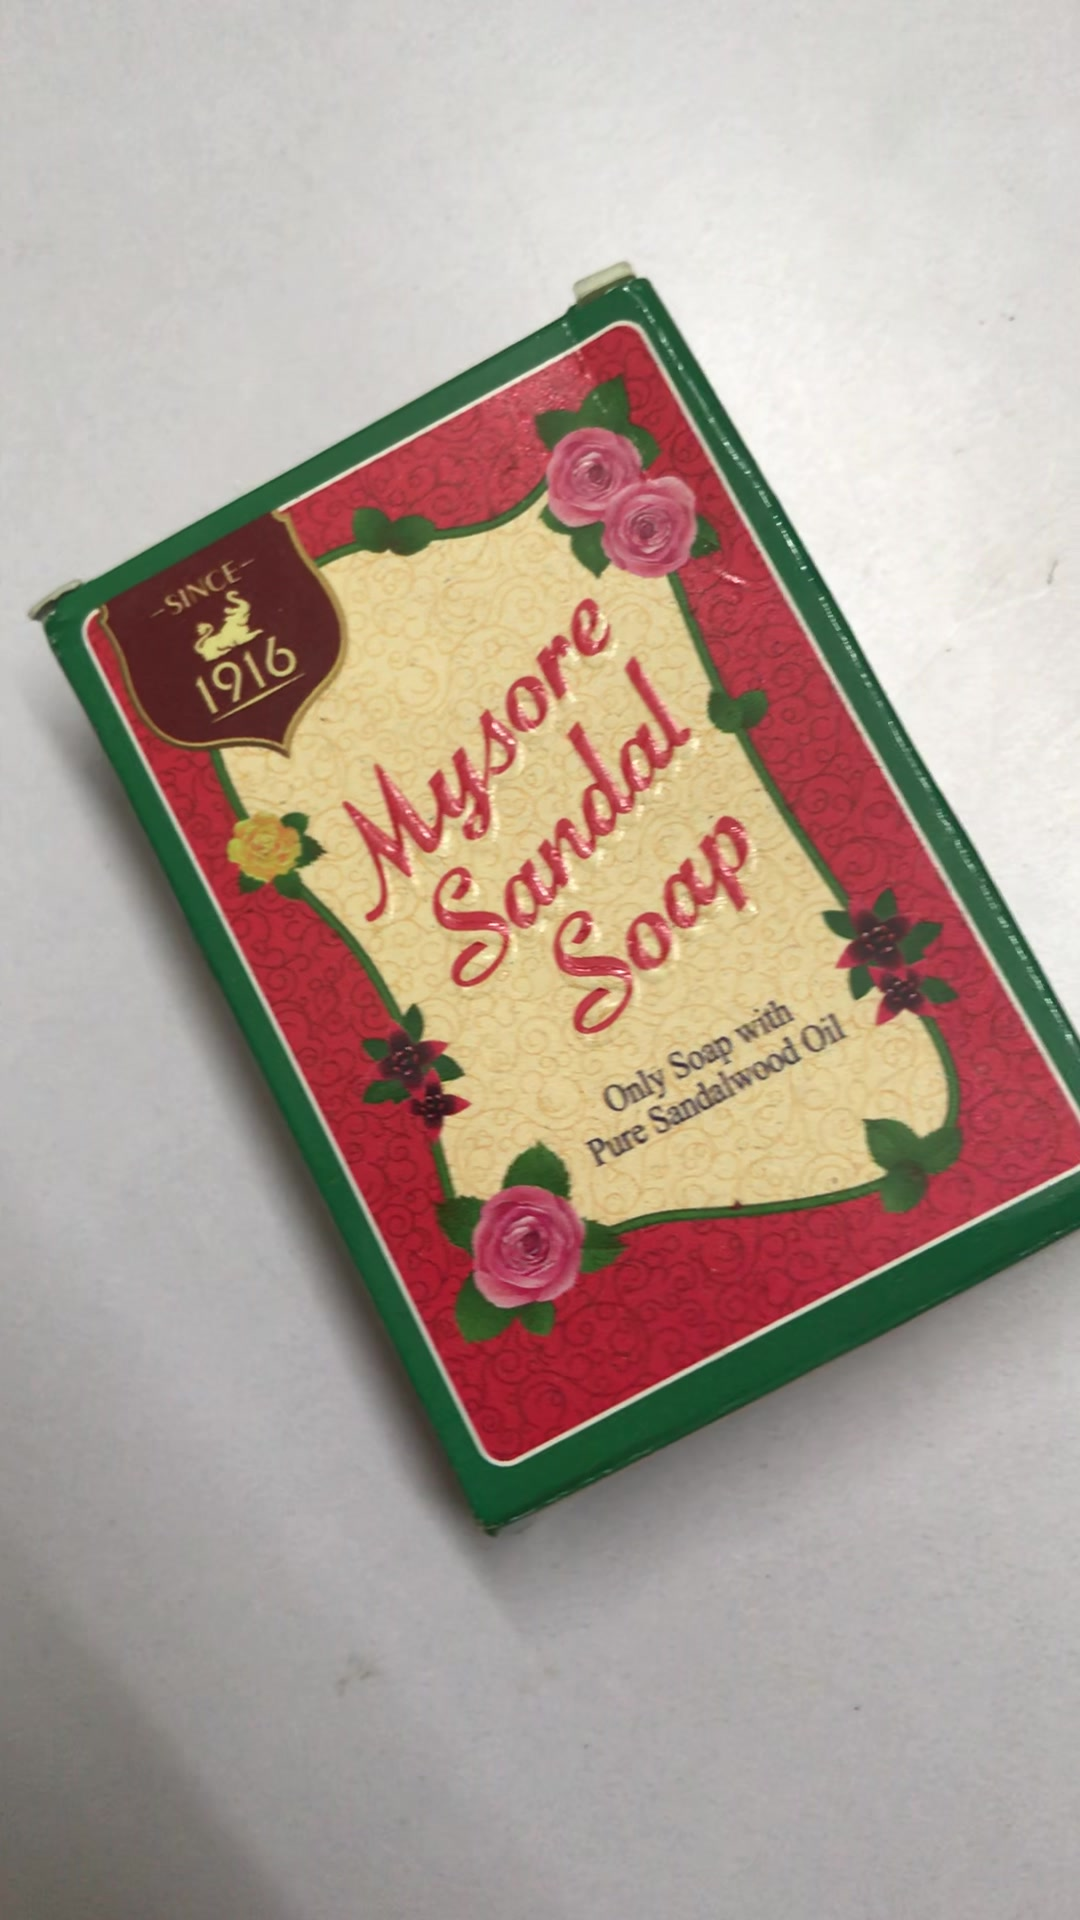mysore sandal soap: (38, 287, 1080, 1543)
